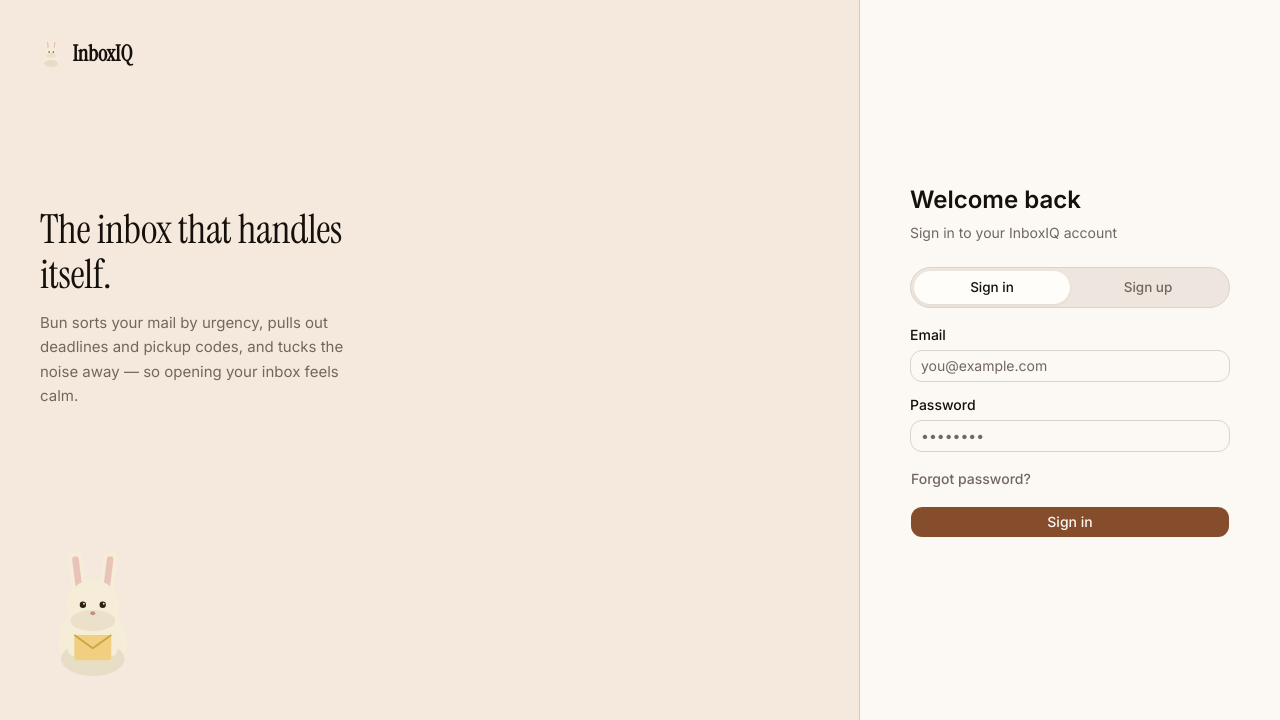
Scenario: SignInPage › shows Supabase error message when sign in fails
Type "user@example.com" into the field labelled "Email" at x=1070, y=366, box [910,350,1230,382]
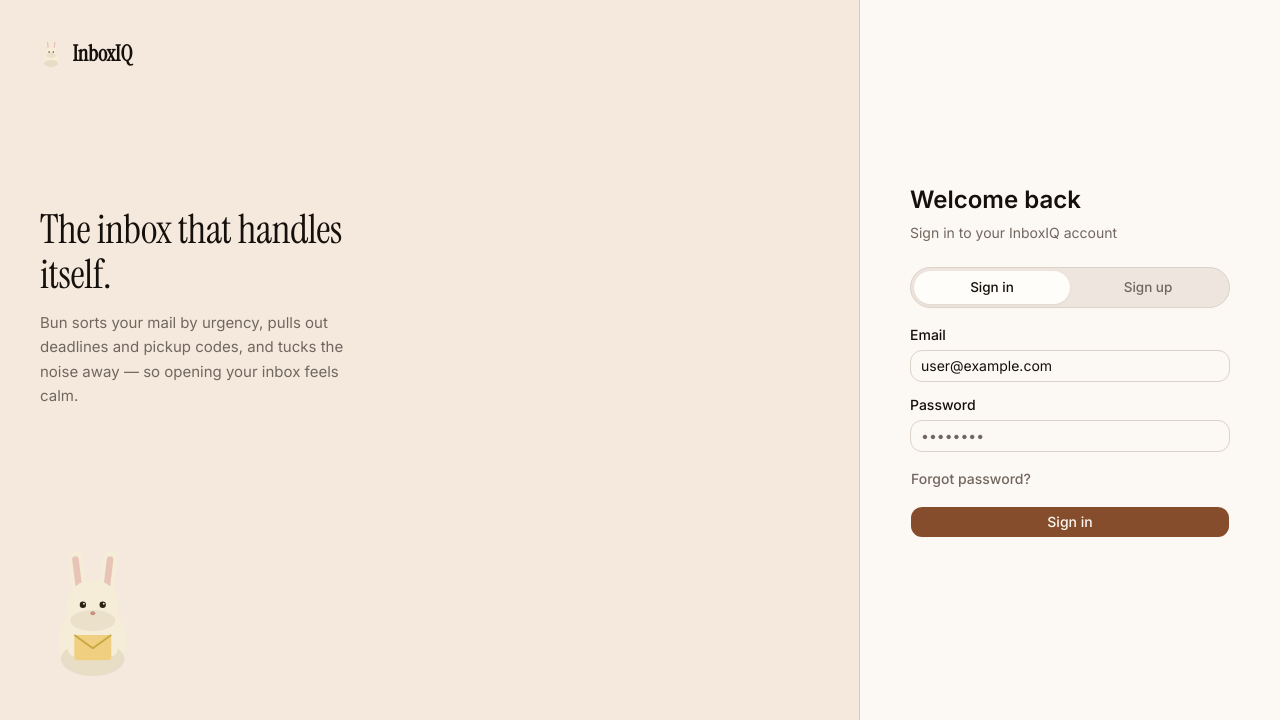
Type "wrongpass" into the password field labelled "Password" at x=1070, y=436, box [910,420,1230,452]
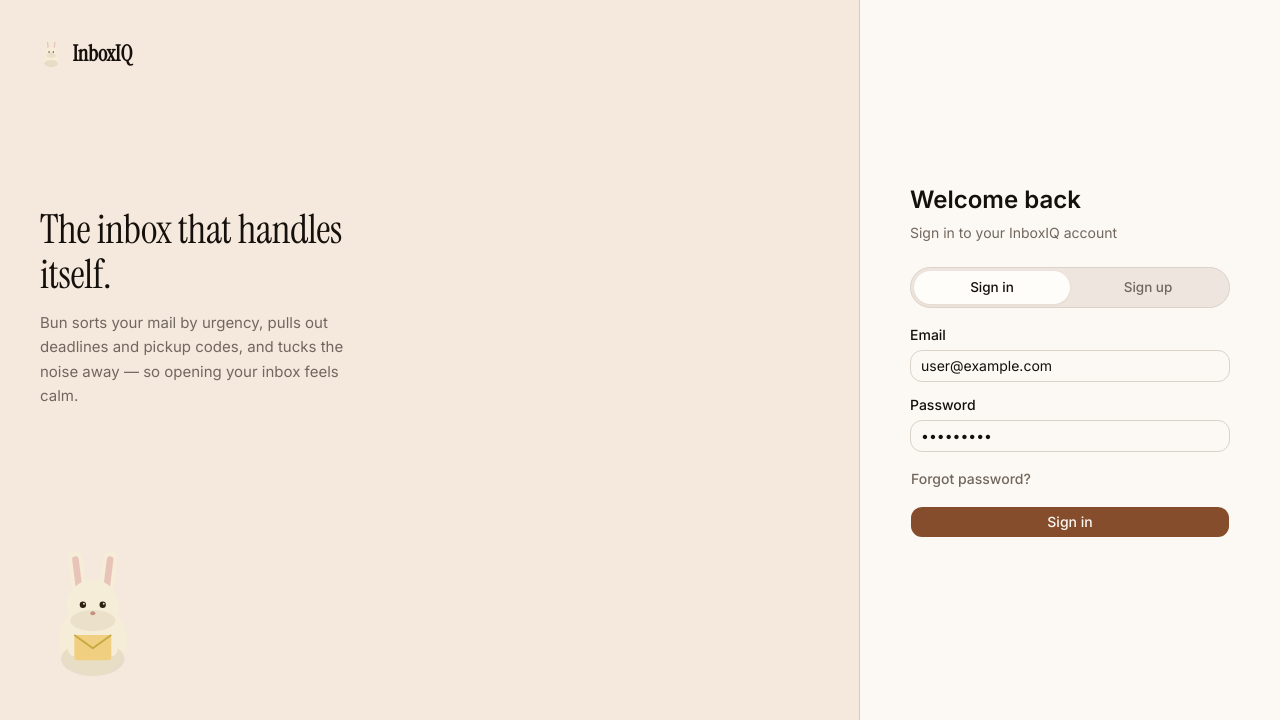
Click the button "Sign in" at x=1070, y=522, box [910,506,1230,538]
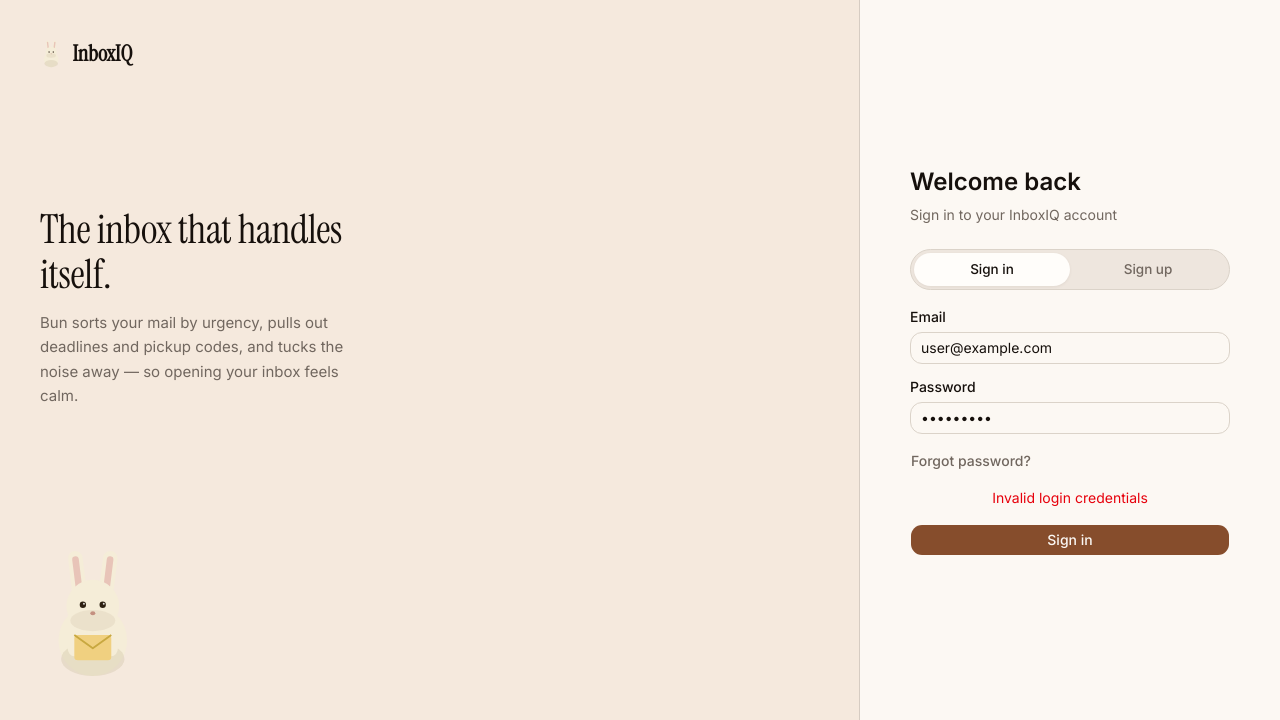
Check: the text "Invalid login credentials" is shown, box [992,489,1148,506]
